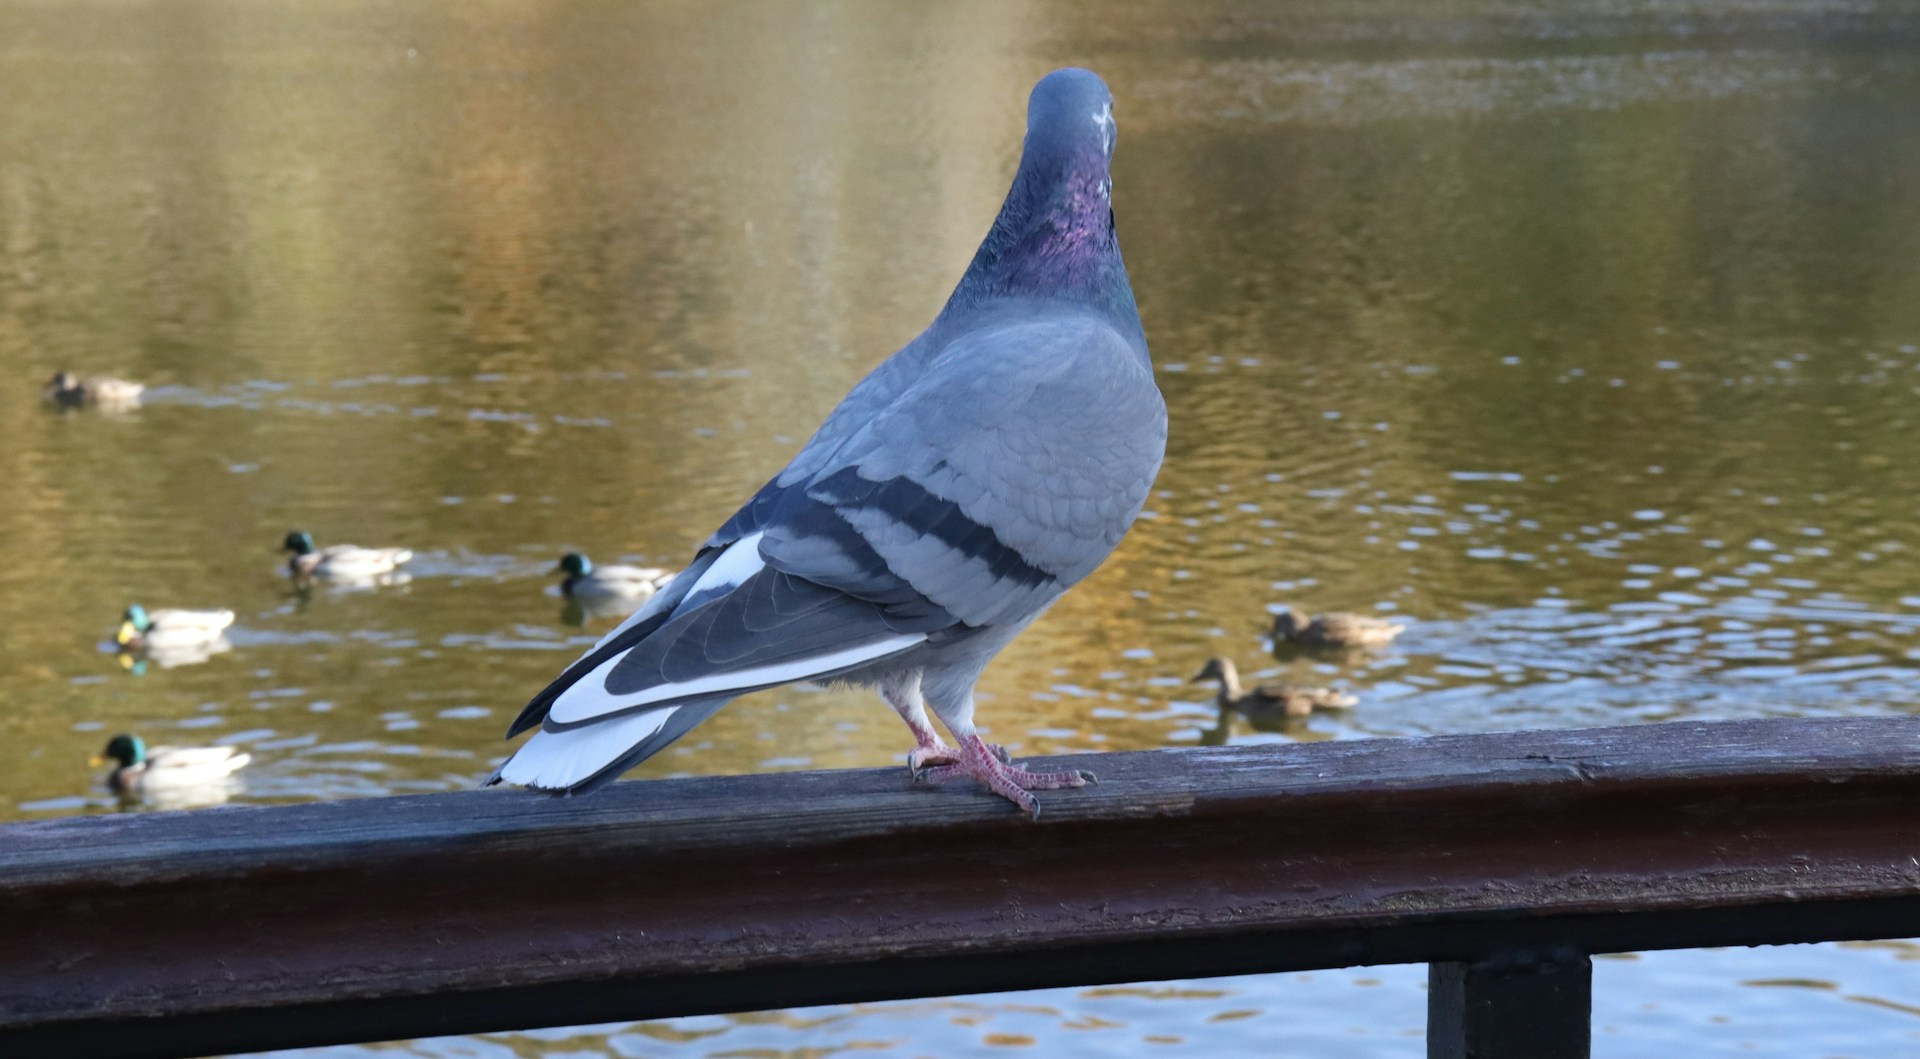pigeon: (480, 51, 1214, 843)
